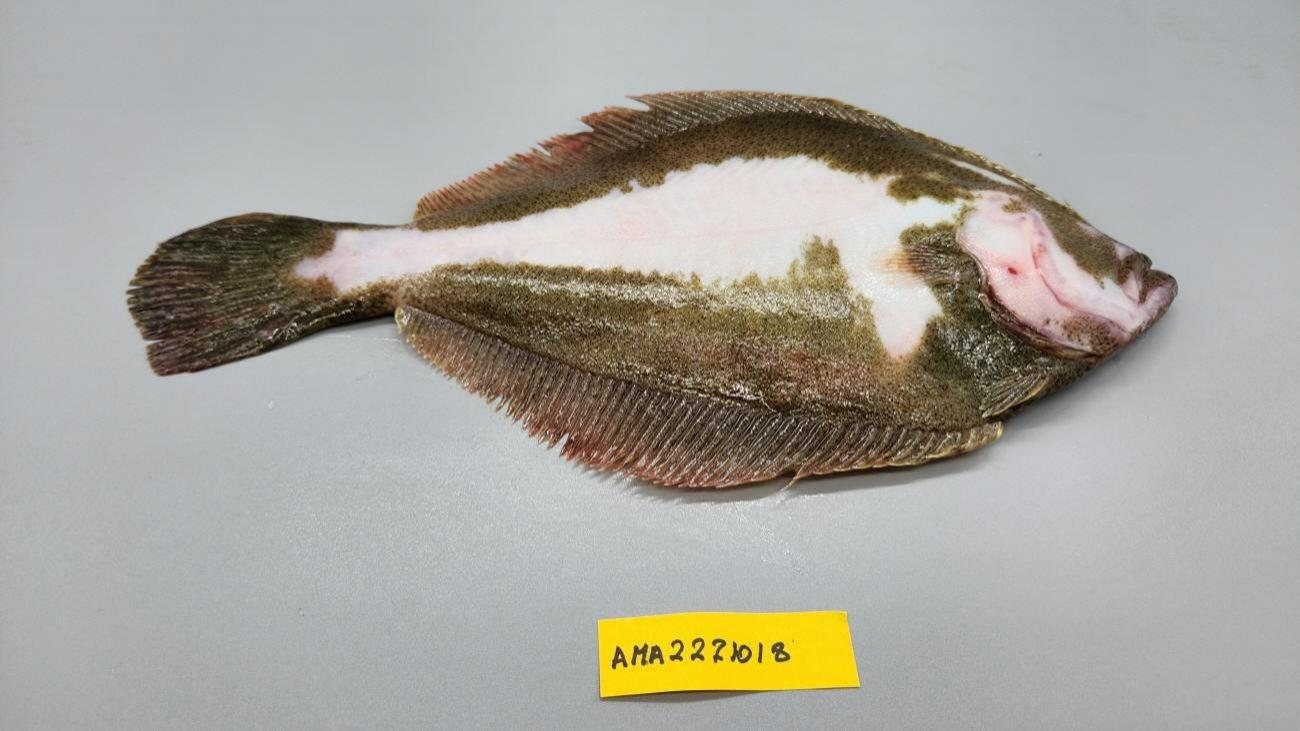MAOUY: (128, 93, 1179, 490)
